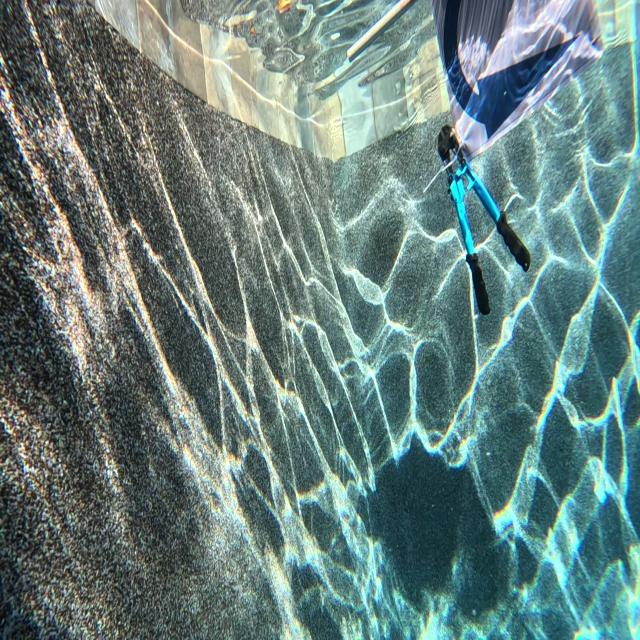blue_side: (442, 0, 587, 145)
